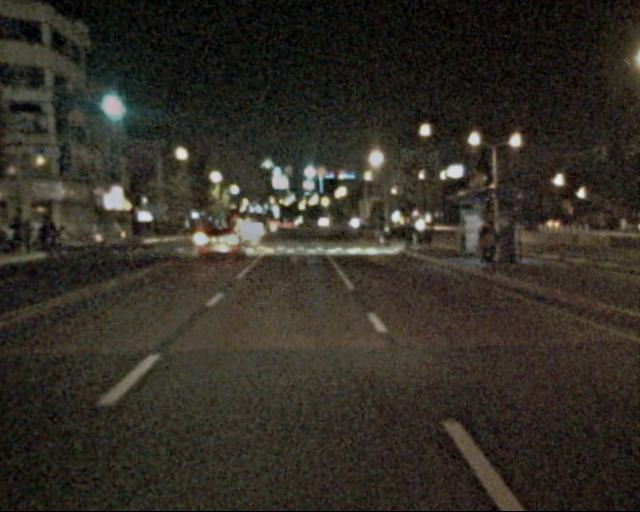person: (474, 221, 495, 273), (487, 219, 508, 269)
